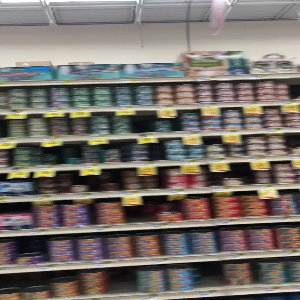void: (105, 267, 136, 295), (123, 198, 159, 222), (41, 144, 84, 163), (37, 170, 70, 194), (192, 263, 221, 290), (130, 110, 156, 134), (148, 140, 167, 162)
